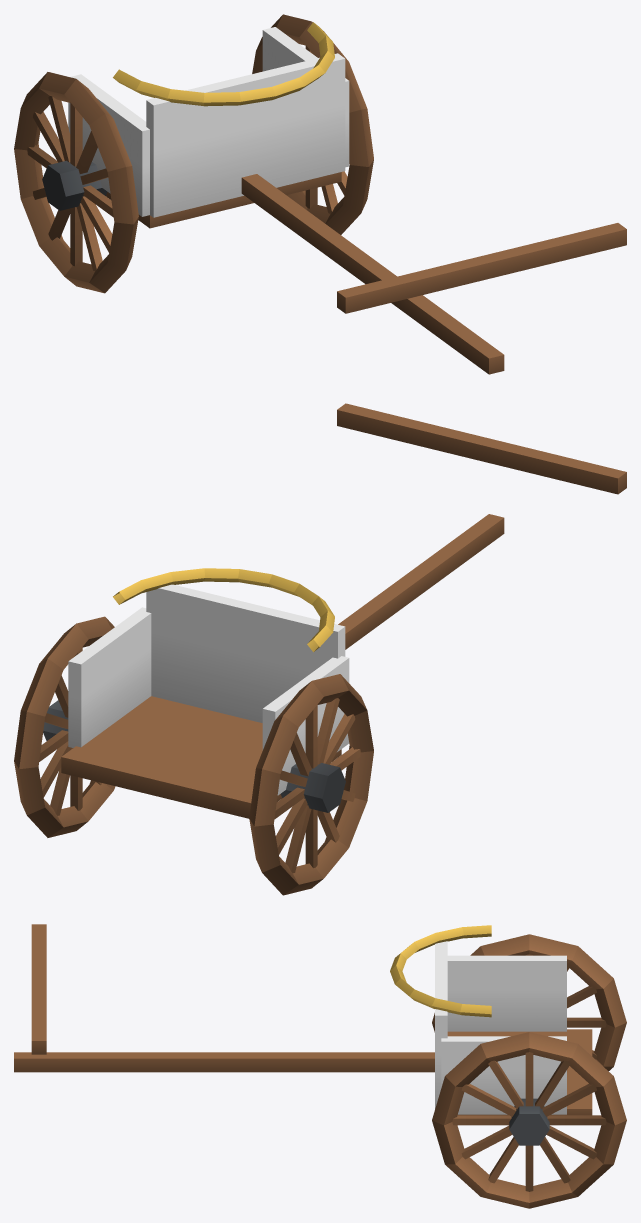
The model's file is chariot.glb.
3 views of the same model, one above another, from view 1: azimuth 30°, elevation 25°; view 2: azimuth 150°, elevation 25°; view 3: azimuth 270°, elevation 25° (orthographic). The views are drawn at different scales.
Visible parts, largest first — view 1: Chariot, Wheel_L, Wheel_R; view 2: Chariot, Wheel_L, Wheel_R; view 3: Chariot, Wheel_R, Wheel_L.
Boxes of the visible parts, <box> form: Chariot: <box>68,22,626,374</box>; Wheel_L: <box>14,72,138,293</box>; Wheel_R: <box>252,14,373,234</box>; Chariot: <box>61,403,626,818</box>; Wheel_L: <box>249,674,373,895</box>; Wheel_R: <box>14,616,115,837</box>; Chariot: <box>14,924,592,1115</box>; Wheel_R: <box>432,1032,626,1208</box>; Wheel_L: <box>432,934,626,1071</box>.
Size of the model in its own units: 1.1 by 0.853 by 2.44.
Materials: 1 (1 with a texture image).
